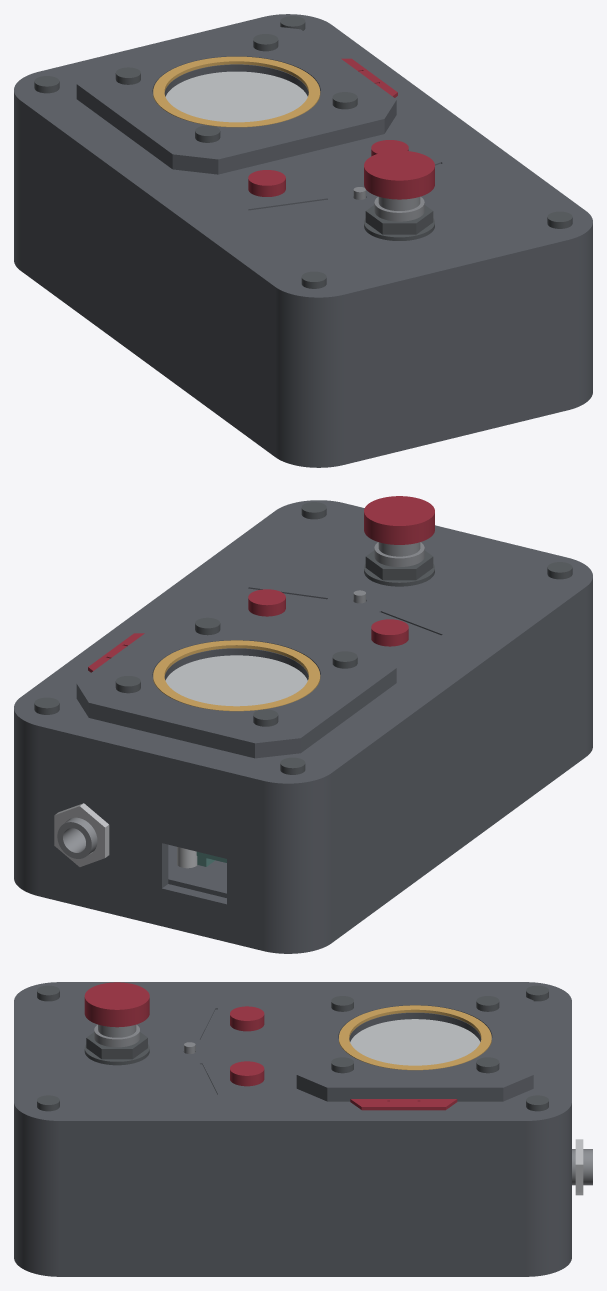
File: VEX_Pocket_Rival_Assembly.glb
3 views of the same model, one above another, from view 1: azimuth 30°, elevation 25°; view 2: azimuth 150°, elevation 25°; view 3: azimuth 270°, elevation 25° (orthographic). The views are drawn at different scales.
Parts seen in each view (by area): view 1: =>[0:1:1:5], =>[0:1:1:25], =>[0:1:1:27], =>[0:1:1:29], =>[0:1:1:48], =>[0:1:1:209], =>[0:1:1:207], =>[0:1:1:201], =>[0:1:1:79]; view 2: =>[0:1:1:5], =>[0:1:1:25], =>[0:1:1:27], =>[0:1:1:29], =>[0:1:1:48], =>[0:1:1:209], =>[0:1:1:90], =>[0:1:1:196], =>[0:1:1:194], =>[0:1:1:207], =>[0:1:1:201], =>[0:1:1:79] (+1 smaller); view 3: =>[0:1:1:5], =>[0:1:1:25], =>[0:1:1:27], =>[0:1:1:29], =>[0:1:1:48], =>[0:1:1:209], =>[0:1:1:50], =>[0:1:1:207], =>[0:1:1:201], =>[0:1:1:79], =>[0:1:1:82], =>[0:1:1:194] (+2 smaller).
Part boxes in pixels (bbox=[...]): =>[0:1:1:5]: bbox=[14, 103, 592, 467]; =>[0:1:1:25]: bbox=[14, 14, 592, 308]; =>[0:1:1:27]: bbox=[76, 24, 396, 174]; =>[0:1:1:29]: bbox=[165, 71, 307, 122]; =>[0:1:1:48]: bbox=[153, 56, 320, 127]; =>[0:1:1:209]: bbox=[364, 150, 434, 199]; =>[0:1:1:207]: bbox=[365, 205, 433, 234]; =>[0:1:1:201]: bbox=[374, 196, 424, 221]; =>[0:1:1:79]: bbox=[248, 170, 285, 196]; =>[0:1:1:5]: bbox=[14, 589, 592, 953]; =>[0:1:1:25]: bbox=[14, 500, 592, 794]; =>[0:1:1:27]: bbox=[76, 608, 396, 758]; =>[0:1:1:29]: bbox=[165, 655, 307, 706]; =>[0:1:1:48]: bbox=[153, 640, 320, 711]; =>[0:1:1:209]: bbox=[364, 496, 434, 544]; =>[0:1:1:90]: bbox=[168, 844, 226, 897]; =>[0:1:1:196]: bbox=[54, 803, 109, 866]; =>[0:1:1:194]: bbox=[57, 817, 97, 858]; =>[0:1:1:207]: bbox=[365, 550, 433, 580]; =>[0:1:1:201]: bbox=[374, 542, 424, 566]; =>[0:1:1:79]: bbox=[371, 619, 408, 646]; =>[0:1:1:5]: bbox=[14, 1114, 571, 1276]; =>[0:1:1:25]: bbox=[14, 982, 571, 1131]; =>[0:1:1:27]: bbox=[296, 987, 533, 1101]; =>[0:1:1:29]: bbox=[350, 1019, 480, 1065]; =>[0:1:1:48]: bbox=[339, 1005, 491, 1070]; =>[0:1:1:209]: bbox=[84, 982, 149, 1027]; =>[0:1:1:50]: bbox=[350, 1099, 457, 1110]; =>[0:1:1:207]: bbox=[86, 1032, 147, 1059]; =>[0:1:1:201]: bbox=[94, 1024, 139, 1047]; =>[0:1:1:79]: bbox=[230, 1006, 264, 1031]; =>[0:1:1:82]: bbox=[230, 1061, 264, 1086]; =>[0:1:1:194]: bbox=[572, 1149, 592, 1185].
Size of the model in its own units: 0.086 by 0.061 by 0.1515.
